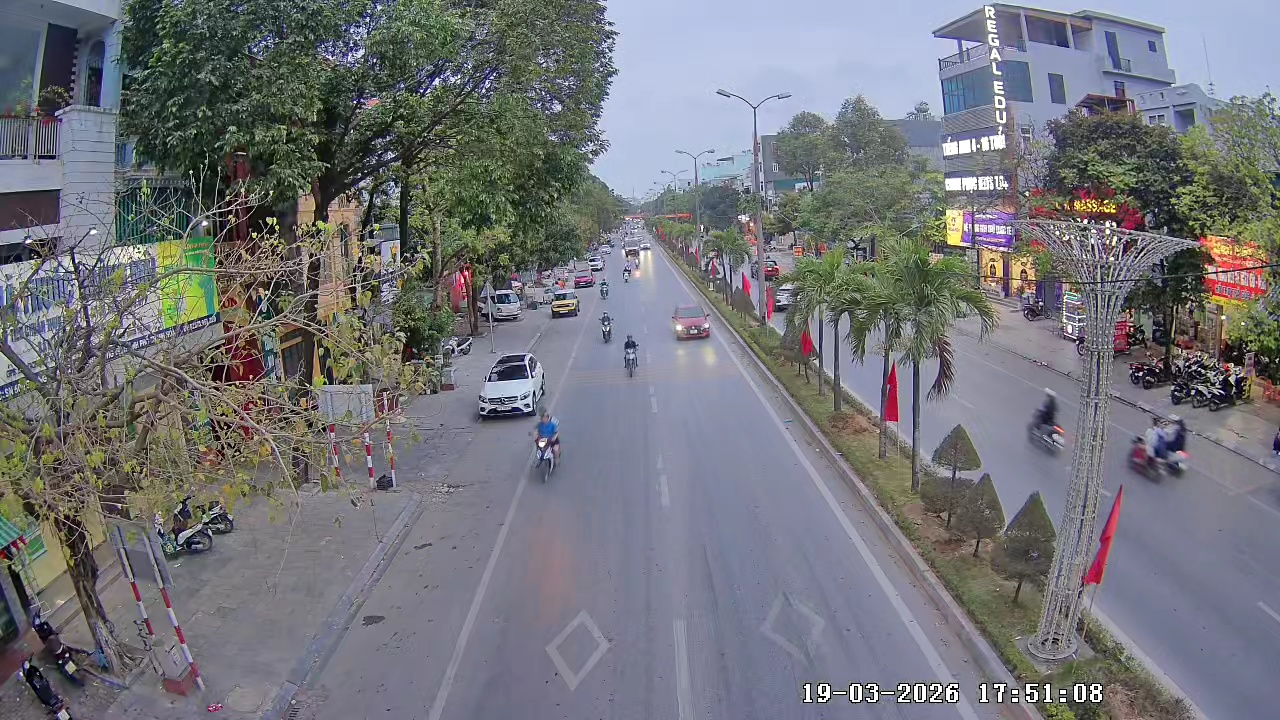car: (475, 350, 547, 419), (672, 299, 712, 340), (550, 288, 580, 318)
motorbike: (1125, 413, 1191, 480), (155, 499, 214, 559), (1025, 388, 1066, 456), (528, 410, 565, 483), (620, 333, 641, 379), (598, 311, 615, 344), (598, 273, 612, 300), (622, 261, 633, 283)
